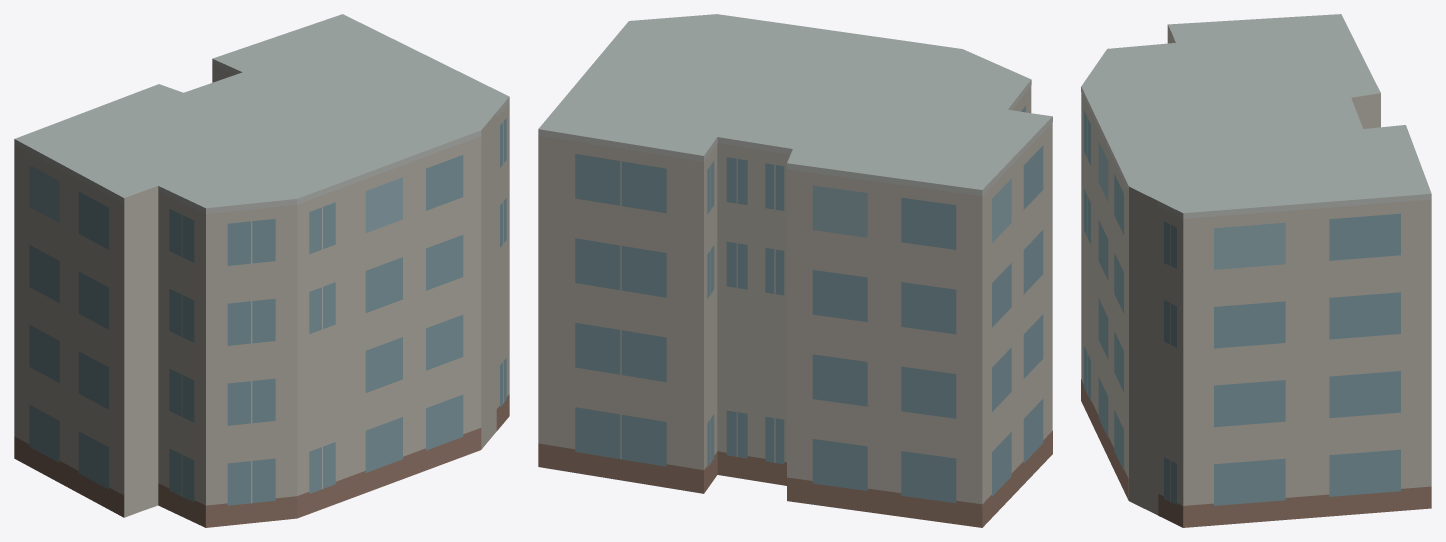
Rendered from survey-upis-32633140.glb.
3 renders of one model, left to right at view 1: azimuth 30°, elevation 25°; view 2: azimuth 150°, elevation 25°; view 3: azimuth 270°, elevation 25°, orthographic. The views are drawn at different scales.
Visible parts, largest first — view 1: survey-upis-32633140.tmp; view 2: survey-upis-32633140.tmp; view 3: survey-upis-32633140.tmp.
Boxes of the visible parts, x1=… form: survey-upis-32633140.tmp: x1=14, y1=14, x2=509, y2=527; survey-upis-32633140.tmp: x1=538, y1=14, x2=1052, y2=527; survey-upis-32633140.tmp: x1=1081, y1=14, x2=1431, y2=527.
Bounding box in the file's own units: 18.48 × 13.6 × 13.74.
